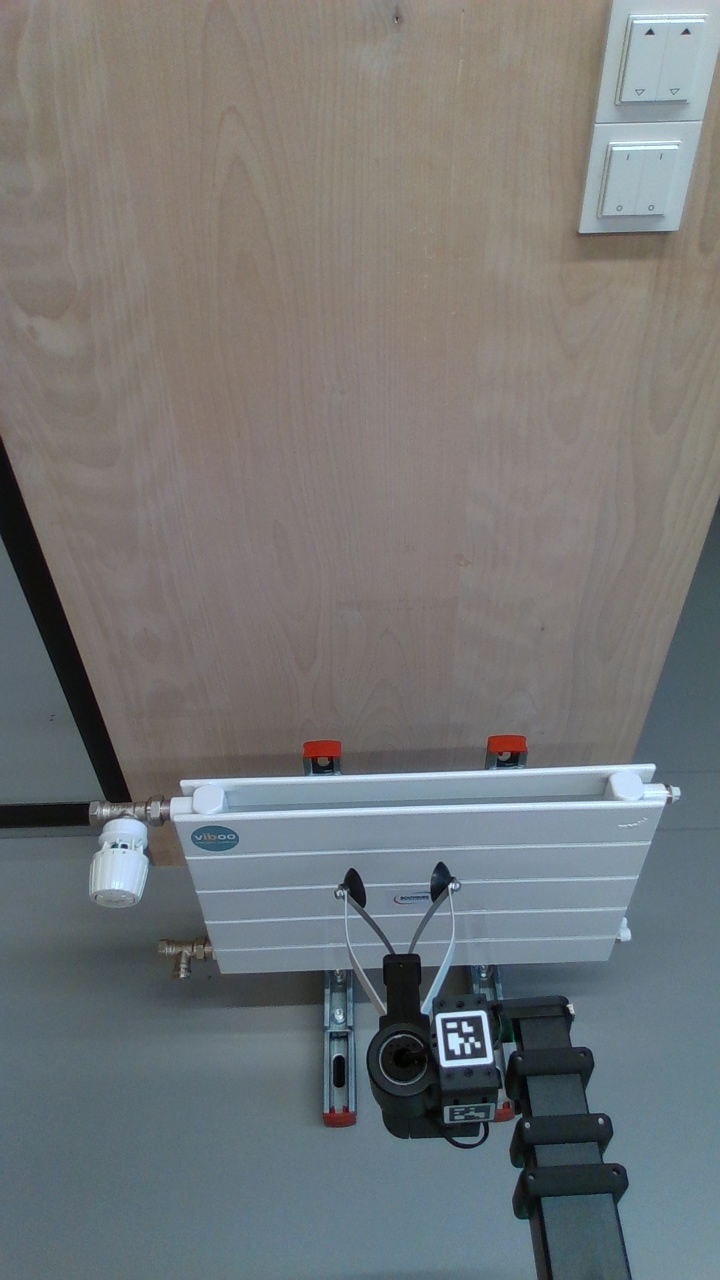Knob_Radiator: (81, 810, 154, 916)
Light_Switch: (605, 1, 714, 121), (586, 122, 691, 237)
Radiator: (162, 768, 666, 974)
